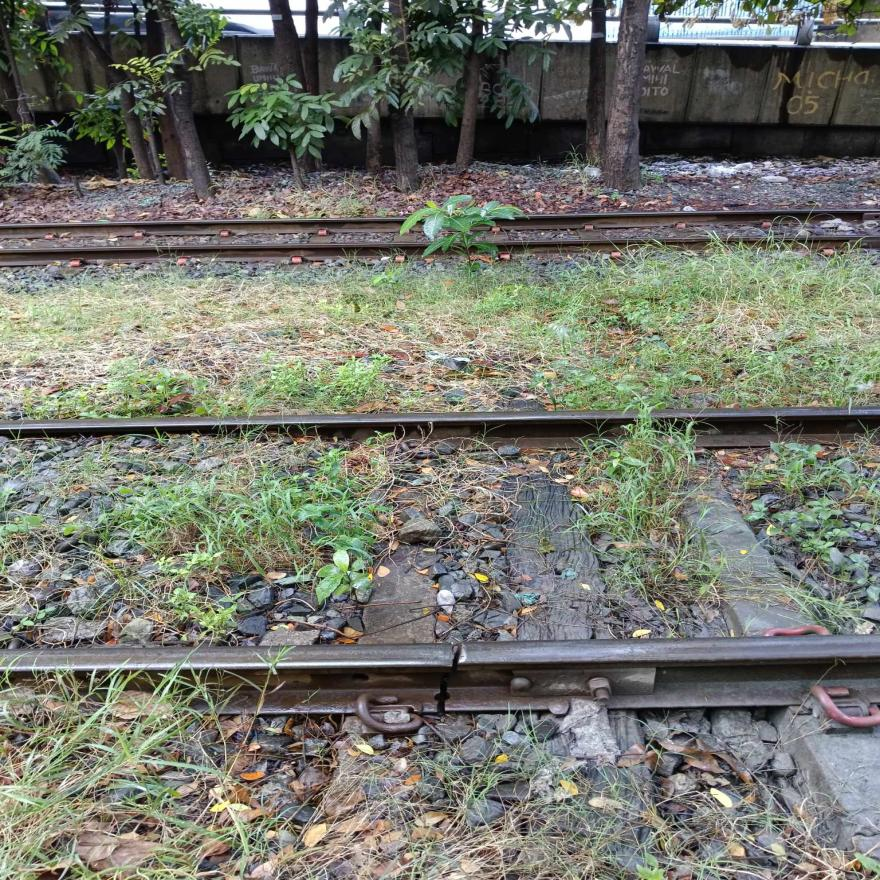railway-gap: (379, 632, 514, 728)
